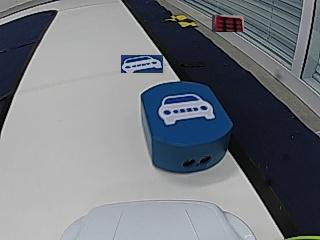safety: (159, 94, 217, 125)
